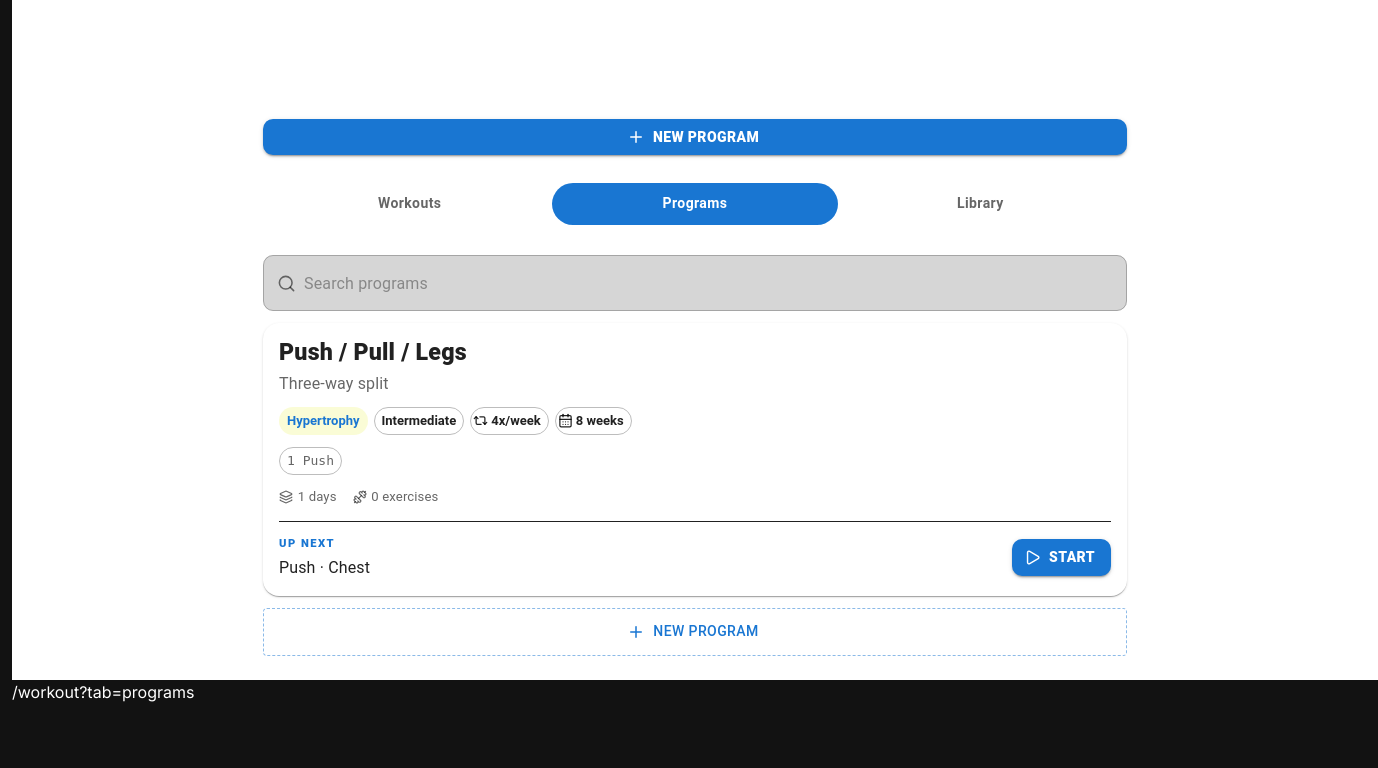
Scenario: WorkoutDashboard mobile navigation › opens a selected program and returns to the URL-backed list
Click the button with aria-label "open push / pull / legs": (373, 352) [279,339,1111,507]
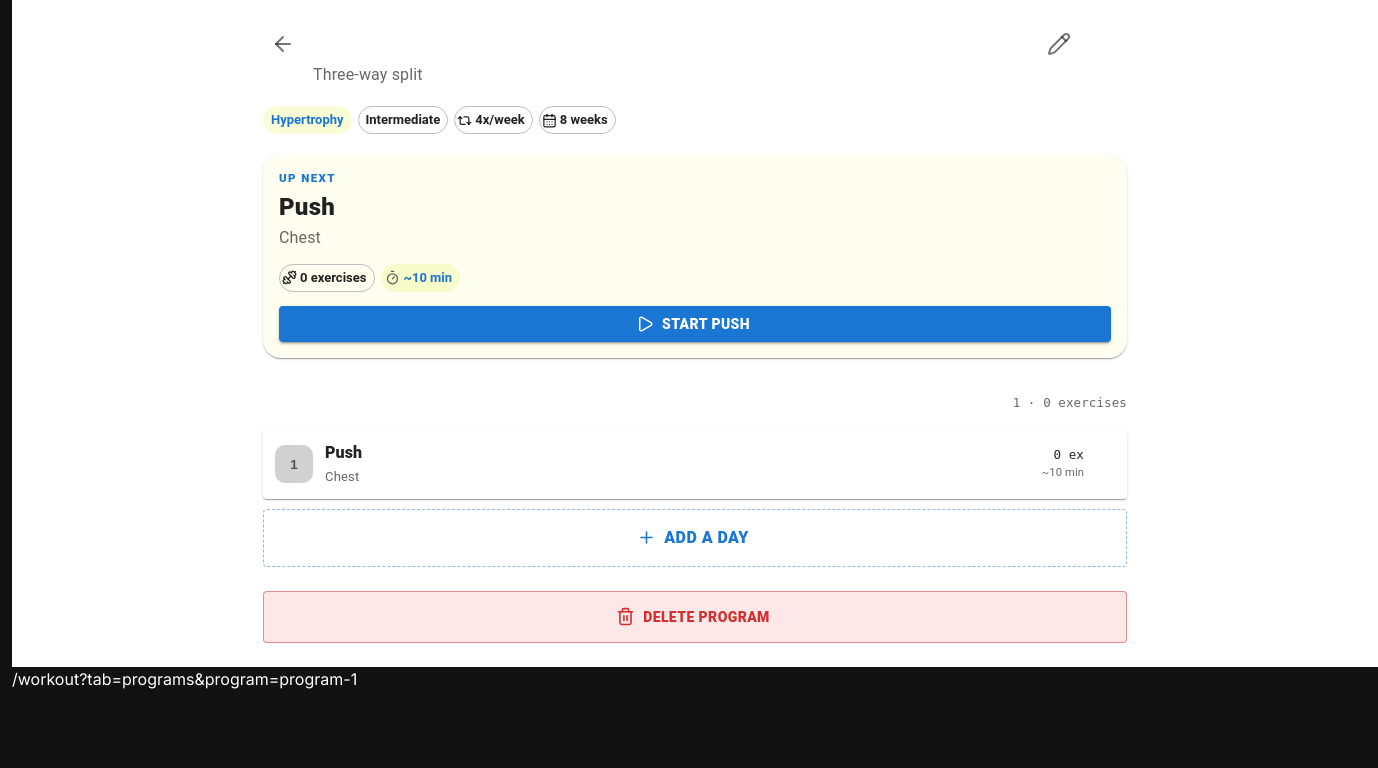
Check: the text named "Current location" shows "program=program-1", box [12,669,357,689]
Click the button named "back to programs": (283, 44) [263,24,303,64]
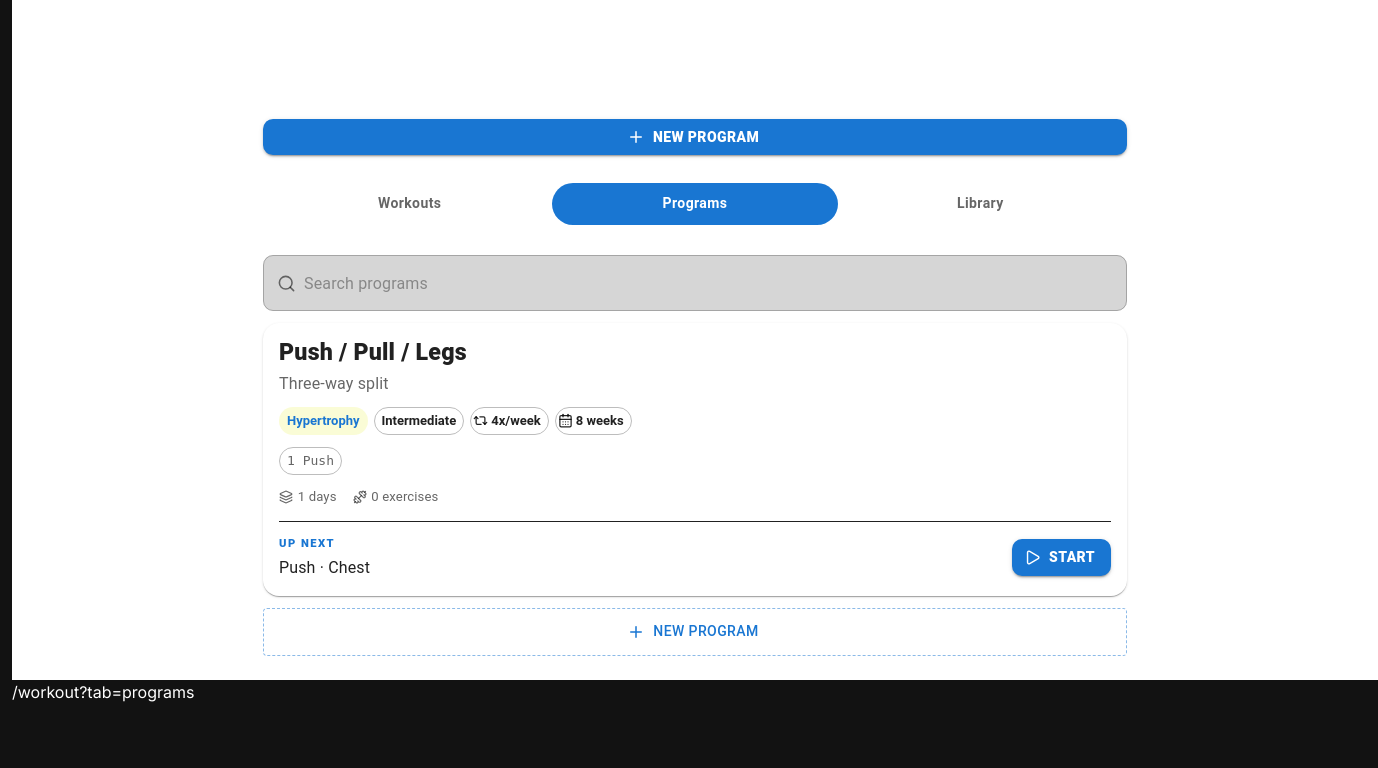
Check: the field with placeholder "Search programs" is shown, box [304,255,1127,311]
Check: the text named "Current location" no longer shows "program=", box [12,682,194,702]
